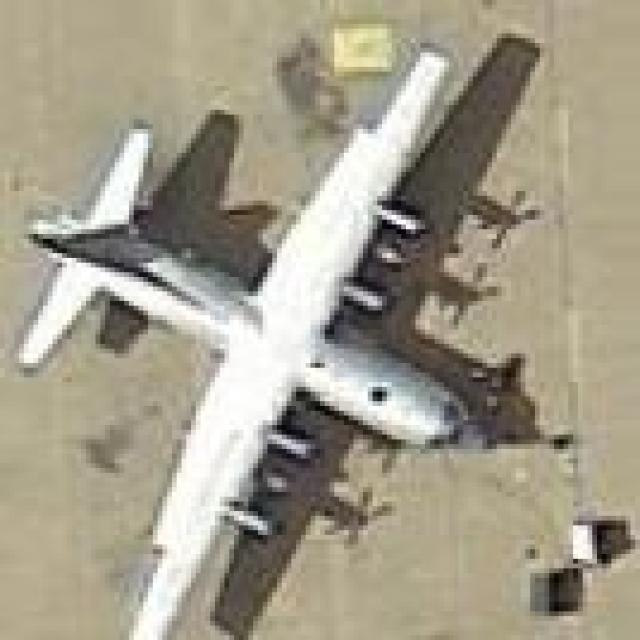C-130_TopDown: (7, 36, 535, 640)
